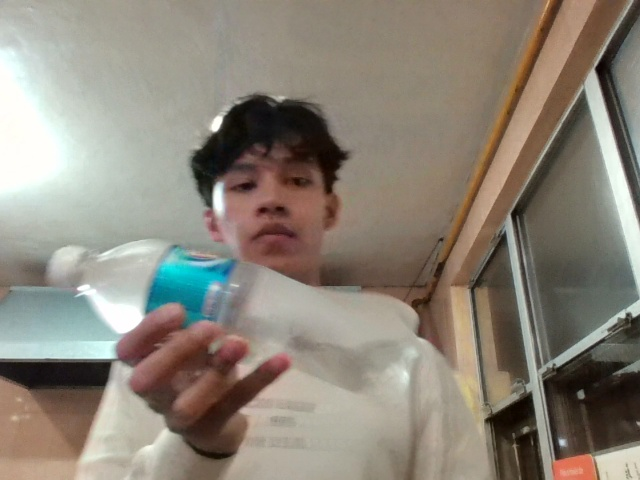botella: (27, 210, 450, 408)
